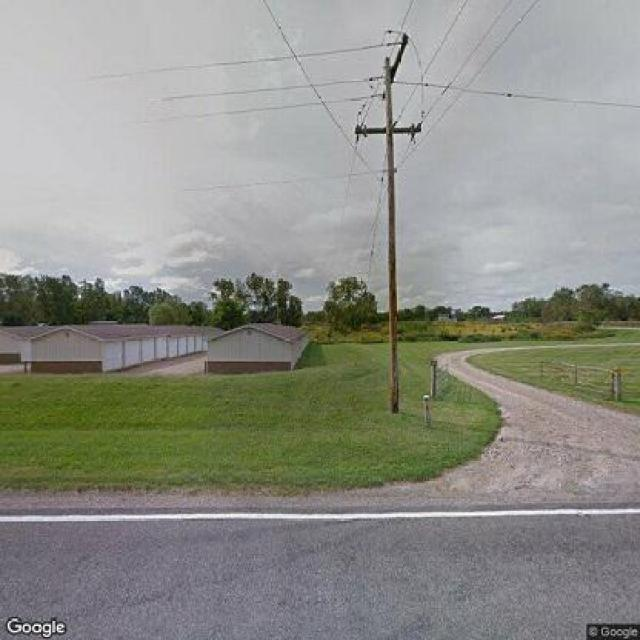pole: (343, 32, 432, 408)
